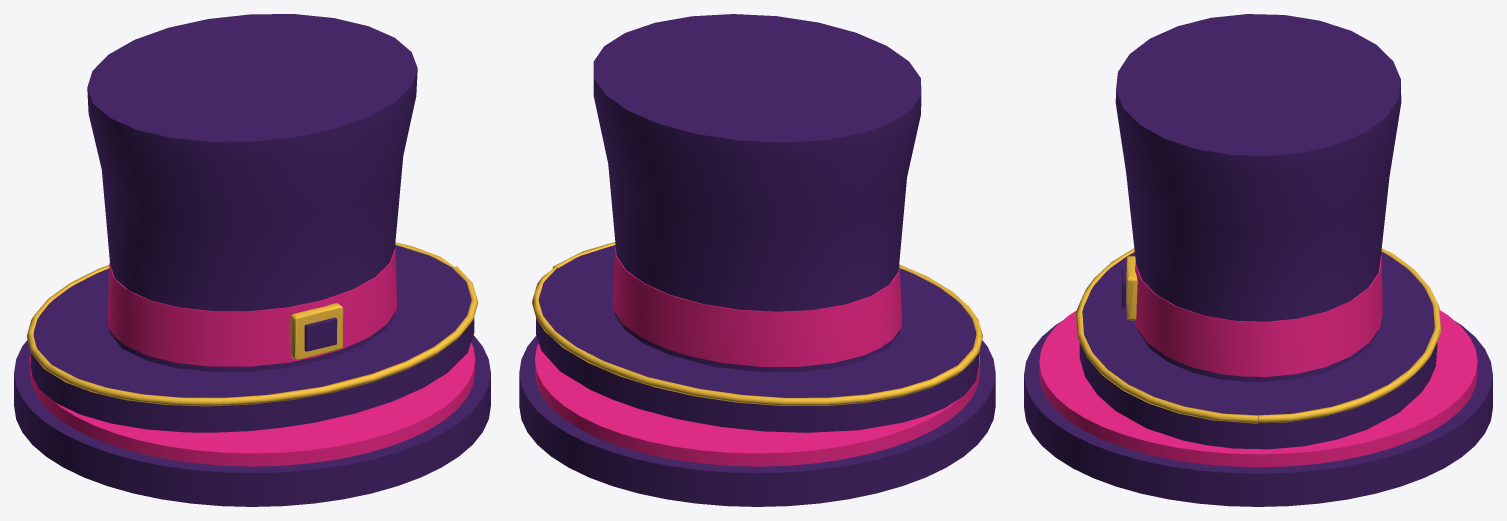
Rendered from desk.hat.top-hat.lod1.glb.
3 renders of one model, left to right at view 1: azimuth 30°, elevation 25°; view 2: azimuth 150°, elevation 25°; view 3: azimuth 270°, elevation 25°, orthographic.
Parts seen in each view (by area): view 1: silk_crown, rolled_brim, stand_base, stand_trim, satin_hatband, brim_binding, hatband_buckle, buckle_inset; view 2: silk_crown, rolled_brim, stand_base, satin_hatband, stand_trim, brim_binding; view 3: silk_crown, rolled_brim, stand_base, stand_trim, satin_hatband, brim_binding, hatband_buckle.
Part boxes in pixels (x1,y1,x2,y2): silk_crown: (87,14,417,371); rolled_brim: (30,245,474,432); stand_base: (14,335,490,506); stand_trim: (29,342,475,466); satin_hatband: (108,248,396,366); brim_binding: (26,242,478,406); hatband_buckle: (290,303,343,359); buckle_inset: (304,317,337,351); silk_crown: (593,14,921,371); rolled_brim: (536,245,978,432); stand_base: (519,336,995,506); satin_hatband: (613,244,901,366); stand_trim: (535,343,979,466); brim_binding: (532,242,982,405); silk_crown: (1115,14,1401,382); rolled_brim: (1079,251,1437,449); stand_base: (1024,321,1492,506); stand_trim: (1039,310,1477,467); satin_hatband: (1135,255,1382,376); brim_binding: (1075,248,1441,423); hatband_buckle: (1126,256,1137,320).
Bounding box in the file's own units: 0.48 × 0.3647 × 0.48.
